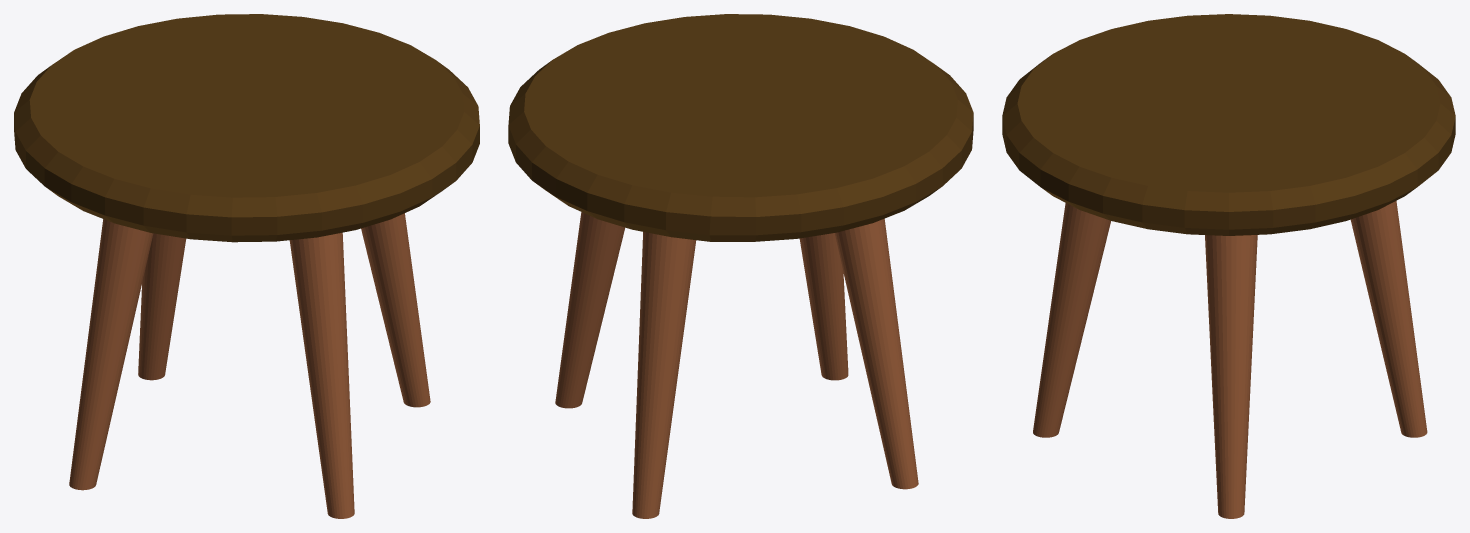
The model's file is Stool.fbx.
The picture shows the model from 3 angles, left to right: view 1: azimuth 30°, elevation 25°; view 2: azimuth 150°, elevation 25°; view 3: azimuth 270°, elevation 25°; orthographic projection. The views are drawn at different scales.
Visible parts, largest first — view 1: Chair; view 2: Chair; view 3: Chair.
Part boxes in pixels (<box>): Chair: <box>14,14,479,518</box>; Chair: <box>508,14,973,518</box>; Chair: <box>1002,14,1455,518</box>.
Size of the model in its own units: 963 by 770 by 963.
